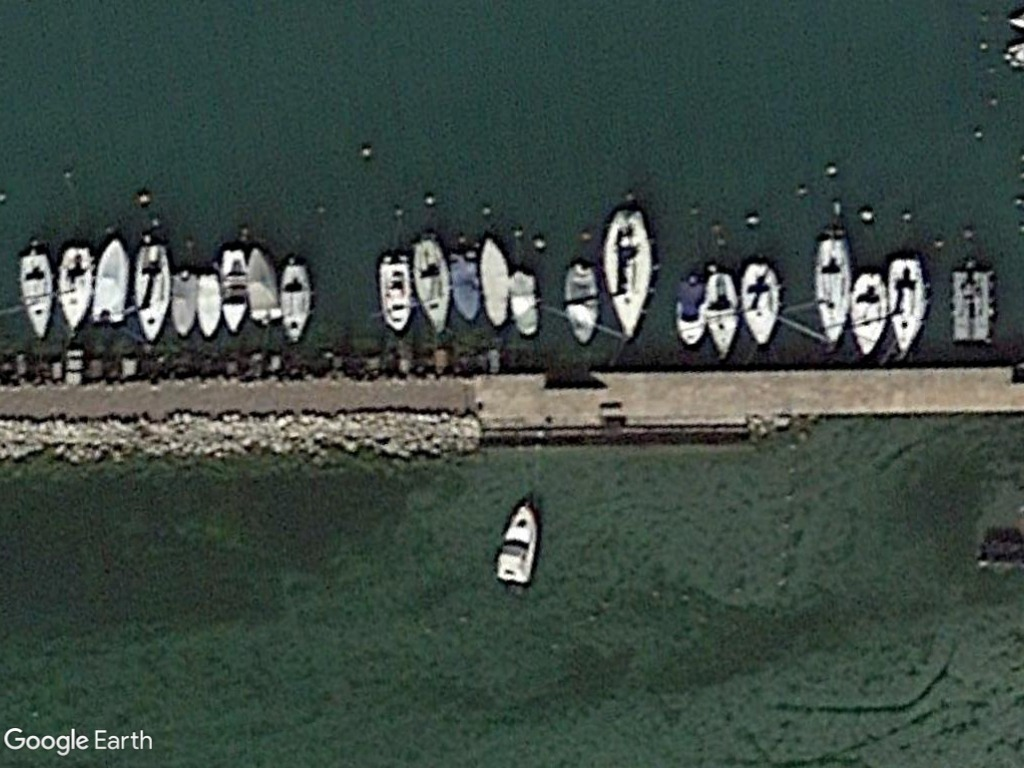boat: (596, 201, 659, 345), (808, 231, 854, 359), (736, 255, 784, 357), (131, 240, 172, 351), (886, 253, 927, 362), (88, 233, 133, 330), (492, 499, 541, 587), (409, 229, 447, 336), (272, 258, 315, 348), (15, 249, 56, 339), (559, 258, 601, 345), (849, 268, 886, 363), (57, 243, 93, 335), (374, 251, 413, 334), (706, 267, 737, 364), (219, 243, 248, 340), (449, 245, 482, 329), (672, 273, 708, 350), (506, 267, 542, 339), (168, 268, 198, 339), (198, 269, 221, 341)
